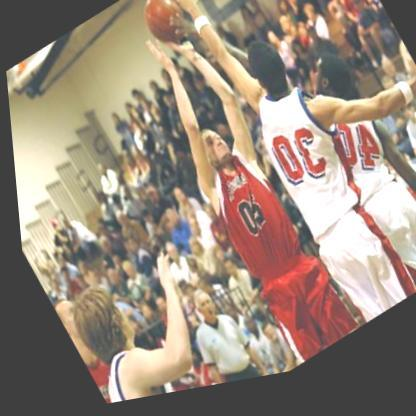basketball: (132, 0, 199, 64)
